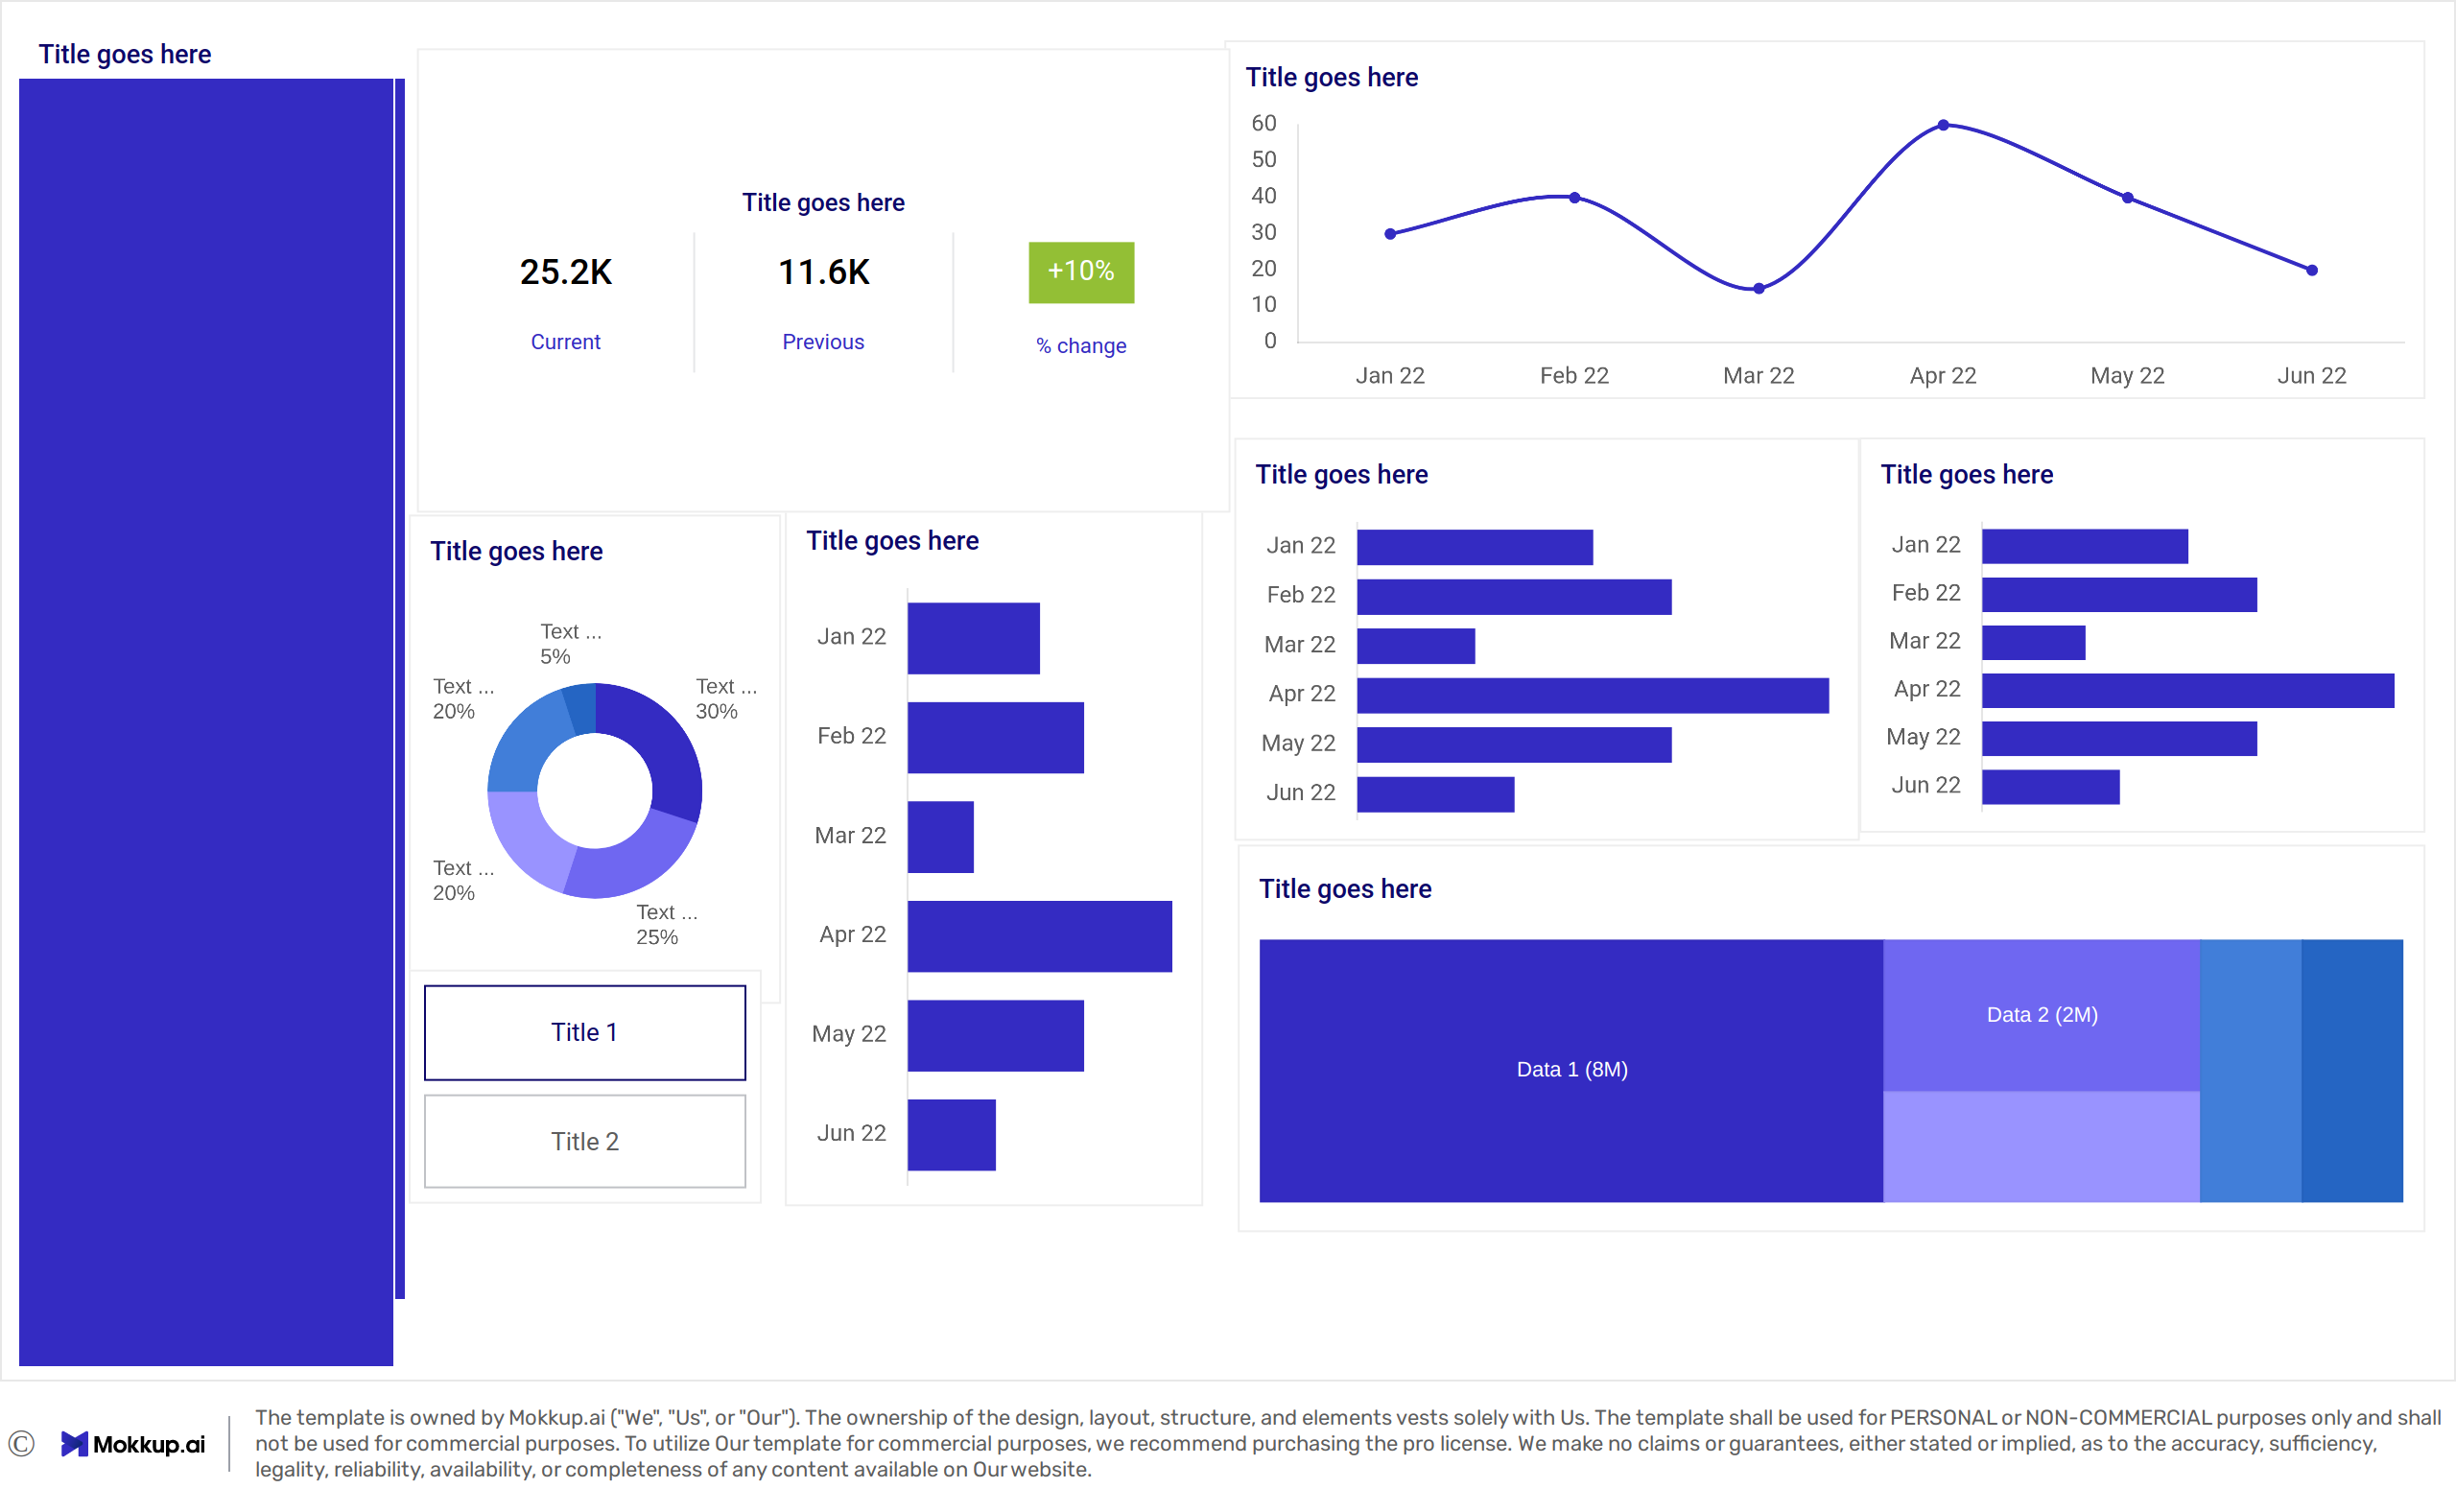

The page's visual inventory and layout, read from the dashboard file:
{"tool":"powerbi","page":{"name":"Dashboard","canvas":[1400,800],"ordinal":0},"visuals":[{"type":"cardVisual","fields":{"Data":["Measure.Total Sales","Measure.Total Profit","Measure.Discount Impact","Measure.Avg Sales","Measure.No of Items"]},"box":[196,0,510.6,271.3],"z":0},{"type":"shape","box":[0,8,186.2,776.7],"z":1000},{"type":"textbox","box":[0,52.8,194.1,81],"z":2000},{"type":"shape","box":[179.8,264.2,533.2,520.4],"z":3000},{"type":"slicer","fields":{"Values":["Metric.Metric"]},"box":[197.8,277,493.7,50.9],"z":4000},{"type":"donutChart","title":"SALES BY YEAR","fields":{"Y":["Measure.No of Items"],"Category":["Data.Year"]},"box":[197.8,331.6,267.6,246.8],"z":5000},{"type":"cardVisual","fields":{"Data":["Measure.No of Items"]},"box":[265.7,442.8,131.9,73.5],"z":6000},{"type":"shape","box":[190.3,354.2,288.3,17],"z":7000},{"type":"barChart","title":"COGS BY PRODUCTS","fields":{"Category":["Data.Product"],"Y":["Measure.Total Gross Sales"]},"box":[444.7,335.4,261.9,439],"z":8000},{"type":"shape","box":[465.4,350.5,235.5,24.5],"z":9000},{"type":"shape","box":[444.7,363.7,17,410.8],"z":10000},{"type":"lineChart","title":"MONTHLY SALES BY PRODUCT","fields":{"Y":["Measure.Monthly Sales"],"Category":["Data.Product"]},"box":[713,23.9,652.5,270.6],"z":11000},{"type":"shape","box":[716.2,276.9,652.5,22.3],"z":12000},{"type":"barChart","title":"MONTHLY SALES","fields":{"Category":["Data.Month Name"],"Y":["Measure.Total Sales"]},"box":[708.5,297.7,331.6,280.8],"z":13000},{"type":"treemap","title":"SALES BY PRODUCT","fields":{"Group":["Data.Product"],"Values":["Measure.Total Sales"]},"box":[721.7,578.5,644.4,196],"z":14000},{"type":"funnel","title":"SALES BY COUNTRY","fields":{"Y":["Measure.Sales by Country"],"Category":["Data.Country"]},"box":[1040.1,299.6,327.9,278.9],"z":15000},{"type":"shape","box":[721.7,542.7,642.5,13.2],"z":16000},{"type":"slicer","fields":{"Values":["Data.Date"]},"box":[18.8,248.7,147,90.4],"z":17000},{"type":"slicer","fields":{"Values":["Data.Year"]},"box":[18.8,363.7,147,88.6],"z":18000},{"type":"slicer","fields":{"Values":["Data.Country"]},"box":[18.8,471.1,147,88.6],"z":19000},{"type":"shape","box":[9.4,86.7,165.8,24.5],"z":20000},{"type":"funnel","title":"SALES BY QUARTER","fields":{"Category":["Data.Date.Variation.Date Hierarchy.Quarter"],"Y":["Measure.Total Sales"]},"box":[191,569.8,262.6,214.9],"z":21000}]}

Visuals, with their boxes on the page's 1400x800 design canvas (x1, y1, x2, y2). These are canvas units, not pixel positions in the 2456x1512 screenshot, which may show the page scaled, cropped or inside an application window:
cardVisual - Measure.Total Sales x Measure.Total Profit: 196, 0, 707, 271
shape: 0, 8, 186, 785
textbox: 0, 53, 194, 134
shape: 180, 264, 713, 785
slicer - Metric.Metric: 198, 277, 692, 328
"SALES BY YEAR" donutChart: 198, 332, 465, 578
cardVisual - Measure.No of Items: 266, 443, 398, 516
shape: 190, 354, 479, 371
"COGS BY PRODUCTS" barChart: 445, 335, 707, 774
shape: 465, 350, 701, 375
shape: 445, 364, 462, 774
"MONTHLY SALES BY PRODUCT" lineChart: 713, 24, 1366, 294
shape: 716, 277, 1369, 299
"MONTHLY SALES" barChart: 708, 298, 1040, 578
"SALES BY PRODUCT" treemap: 722, 578, 1366, 774
"SALES BY COUNTRY" funnel: 1040, 300, 1368, 578
shape: 722, 543, 1364, 556
slicer - Data.Date: 19, 249, 166, 339
slicer - Data.Year: 19, 364, 166, 452
slicer - Data.Country: 19, 471, 166, 560
shape: 9, 87, 175, 111
"SALES BY QUARTER" funnel: 191, 570, 454, 785
